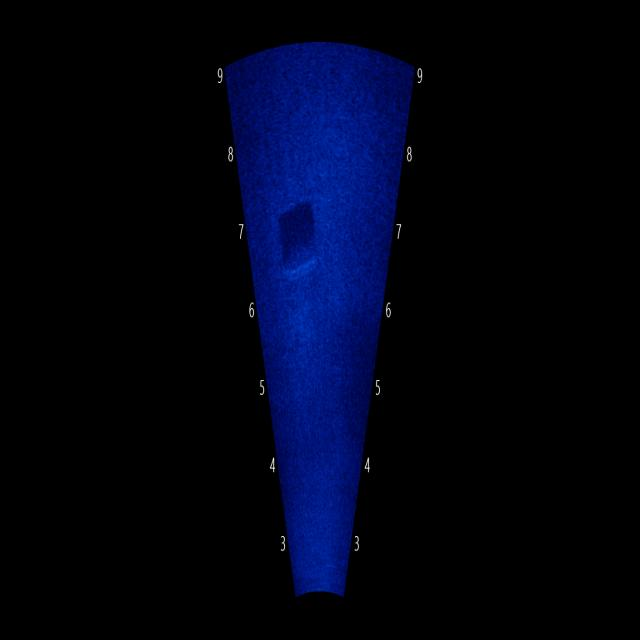square: (271, 171, 331, 303)
